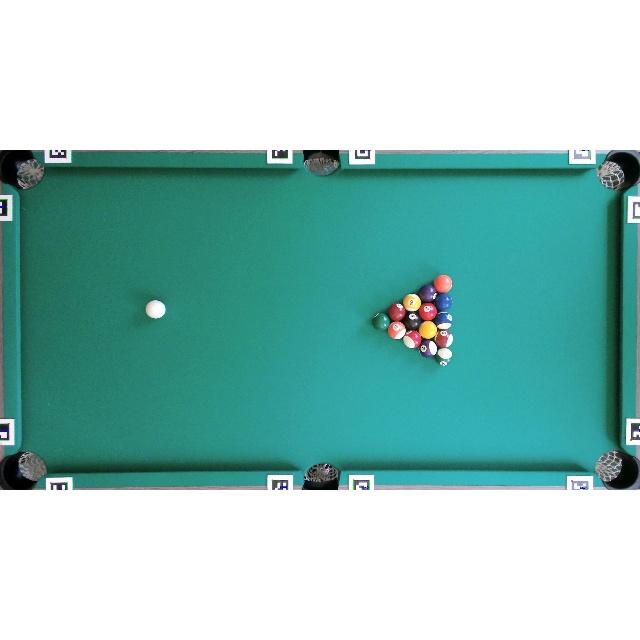cue ball: (146, 300, 165, 319)
other: (434, 346, 453, 366), (418, 320, 438, 339), (403, 330, 422, 349), (417, 284, 437, 302), (434, 293, 453, 311), (404, 312, 422, 330), (419, 302, 437, 320), (388, 303, 406, 321), (436, 330, 454, 348), (434, 275, 452, 293), (372, 312, 390, 330), (420, 340, 438, 358), (434, 312, 453, 329), (403, 294, 421, 311), (388, 322, 406, 339)
